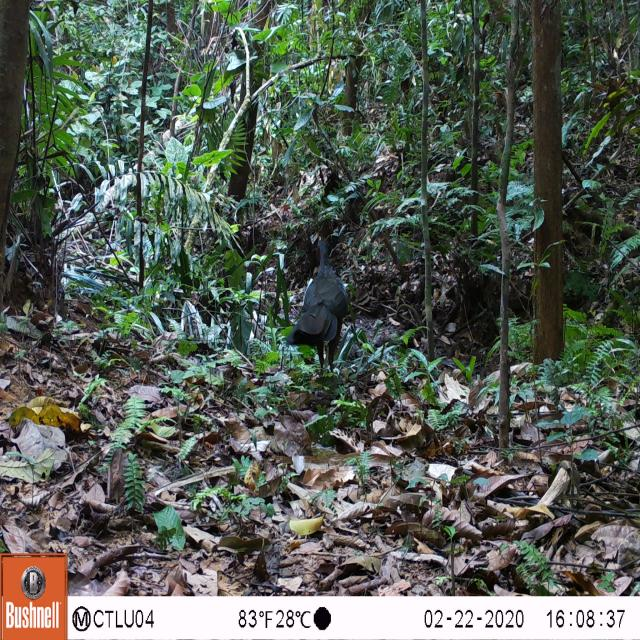Spixs Guan: (290, 229, 358, 379)
